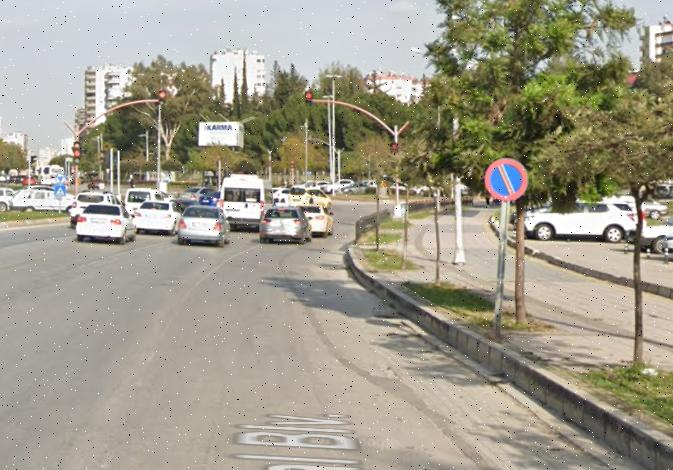redlight: (157, 89, 166, 105), (304, 90, 313, 106)
